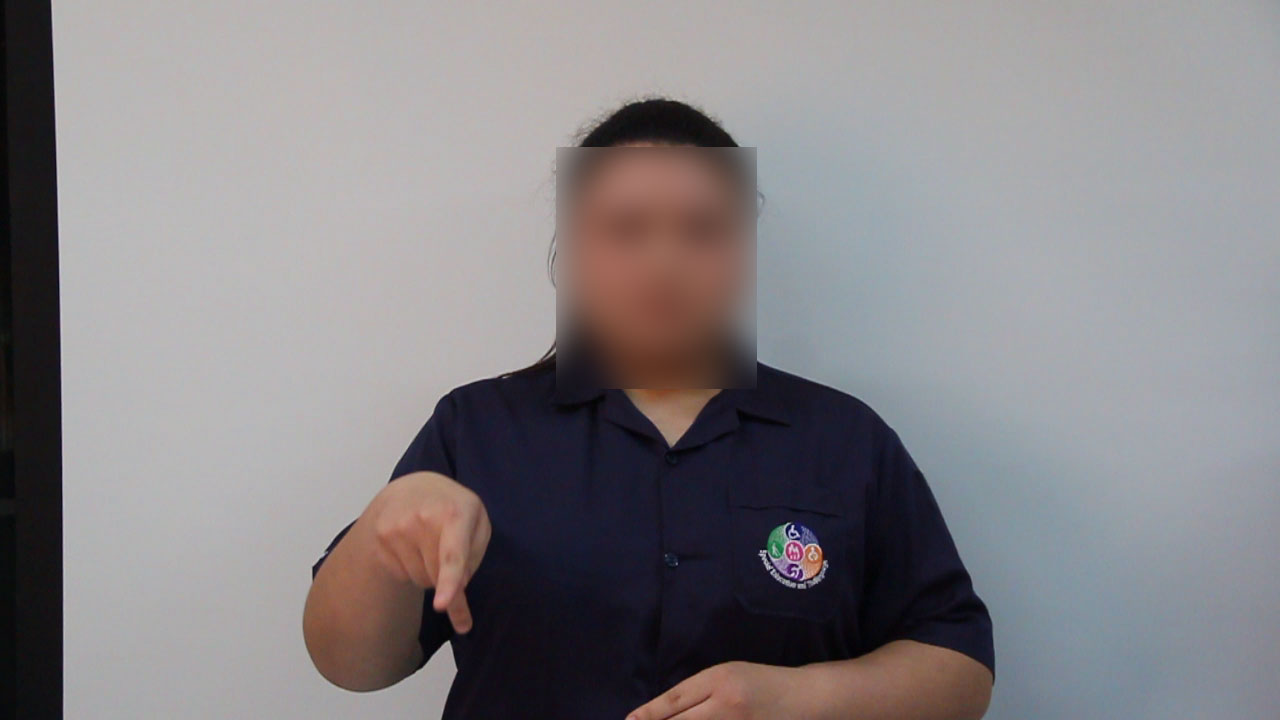por: (356, 460, 514, 647)
